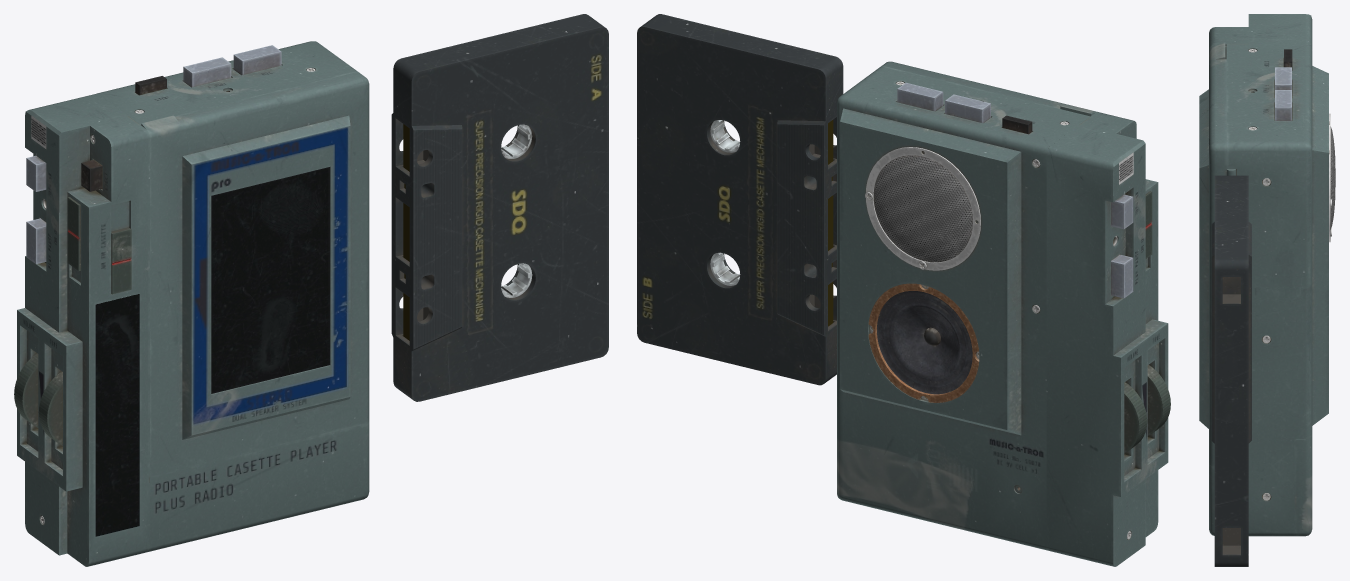
The model's file is portable_cassette_player_1k.gltf.
3 renders of one model, left to right at view 1: azimuth 30°, elevation 25°; view 2: azimuth 150°, elevation 25°; view 3: azimuth 270°, elevation 25°, orthographic. The views are drawn at different scales.
Parts seen in each view (by area): view 1: portable_cassette_player, portable_cassette_player_lid, portable_cassette_player_casette; view 2: portable_cassette_player, portable_cassette_player_casette, portable_cassette_player_lid; view 3: portable_cassette_player, portable_cassette_player_casette, portable_cassette_player_lid.
Part boxes in pixels (bbox=[...]): portable_cassette_player: bbox=[14, 41, 369, 566]; portable_cassette_player_lid: bbox=[141, 72, 369, 476]; portable_cassette_player_casette: bbox=[391, 14, 608, 401]; portable_cassette_player: bbox=[837, 66, 1170, 566]; portable_cassette_player_casette: bbox=[637, 14, 843, 385]; portable_cassette_player_lid: bbox=[881, 61, 1097, 116]; portable_cassette_player: bbox=[1209, 14, 1335, 536]; portable_cassette_player_casette: bbox=[1211, 175, 1251, 566]; portable_cassette_player_lid: bbox=[1199, 42, 1235, 466].
Bounding box in the file's own units: 0.1723 × 0.1303 × 0.0397.
2 materials, 2 textured.
